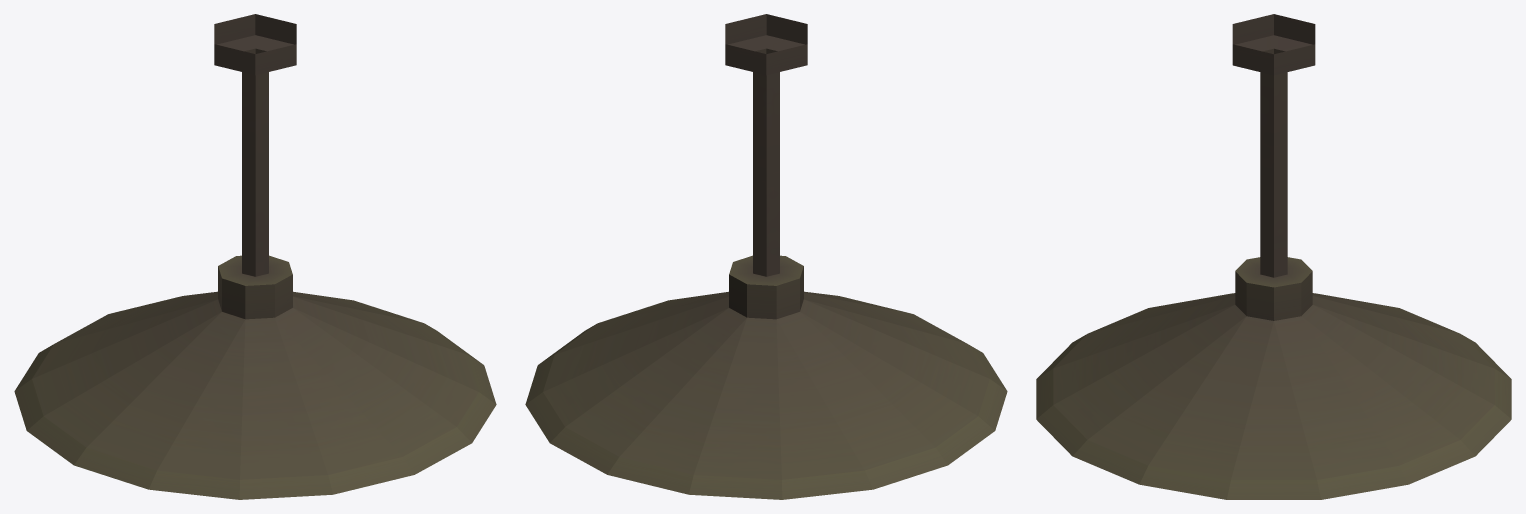
File: SM_EN_Ceilinglmap_Low.fbx
The picture shows the model from 3 angles, left to right: view 1: azimuth 30°, elevation 25°; view 2: azimuth 150°, elevation 25°; view 3: azimuth 270°, elevation 25°; orthographic projection.
Parts seen in each view (by area): view 1: SM_EN_Ceilinglmap_Low; view 2: SM_EN_Ceilinglmap_Low; view 3: SM_EN_Ceilinglmap_Low.
Boxes of the visible parts, x1,y1,x2,y2 form: SM_EN_Ceilinglmap_Low: (14, 14, 496, 499); SM_EN_Ceilinglmap_Low: (525, 14, 1007, 499); SM_EN_Ceilinglmap_Low: (1036, 14, 1511, 499).
Bounding box in the file's own units: 133 × 133 × 119.
